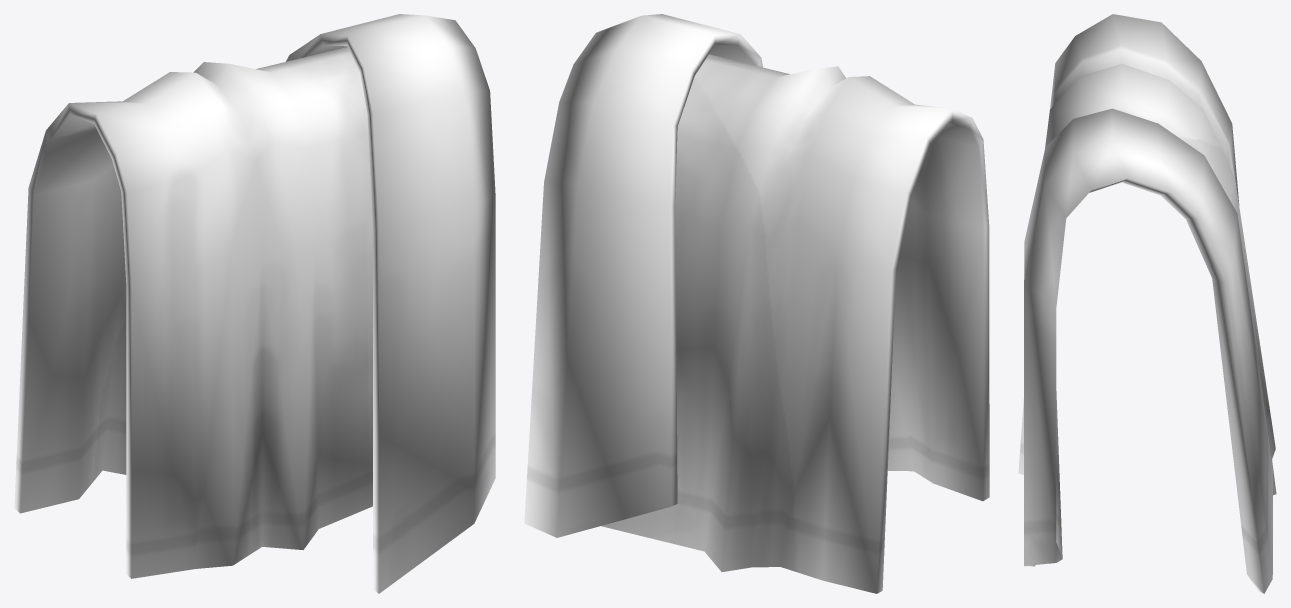
File: obj_Towel.fbx
3 views of the same model, side by side, from view 1: azimuth 30°, elevation 25°; view 2: azimuth 150°, elevation 25°; view 3: azimuth 270°, elevation 25° (orthographic). The views are drawn at different scales.
Visible parts, largest first — view 1: obj_Towel; view 2: obj_Towel; view 3: obj_Towel.
Part boxes in pixels (<box>): obj_Towel: <box>14,14,495,593</box>; obj_Towel: <box>524,14,989,593</box>; obj_Towel: <box>1018,14,1276,593</box>.
Bounding box in the file's own units: 0.3526 × 0.4727 × 0.2371.
